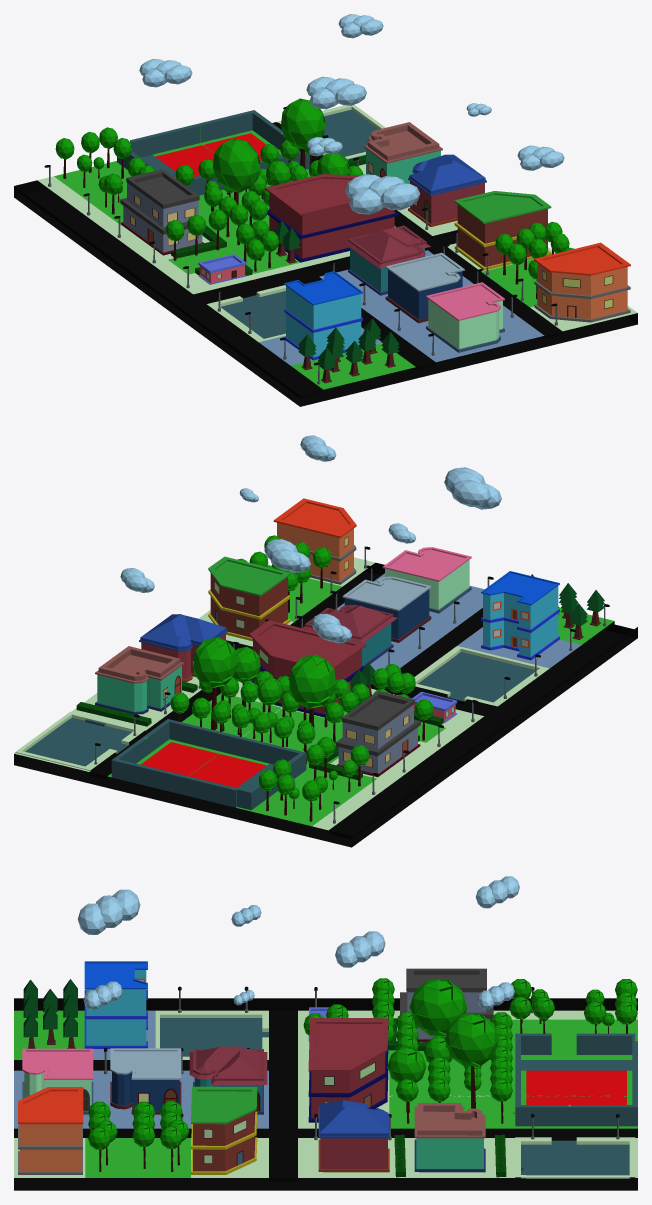
Rendered from city   New  - 2023.fbx.
The picture shows the model from 3 angles, top to bottom: view 1: azimuth 30°, elevation 25°; view 2: azimuth 150°, elevation 25°; view 3: azimuth 270°, elevation 25°; orthographic projection. The views are drawn at different scales.
Visible parts, largest first — view 1: Cylinder.020; view 2: Cylinder.020; view 3: Cylinder.020.
Boxes of the visible parts, x1=… form: Cylinder.020: x1=14, y1=14, x2=637, y2=406; Cylinder.020: x1=14, y1=435, x2=637, y2=847; Cylinder.020: x1=14, y1=876, x2=637, y2=1190.
Size of the model in its own units: 12740 by 6428 by 18689.
